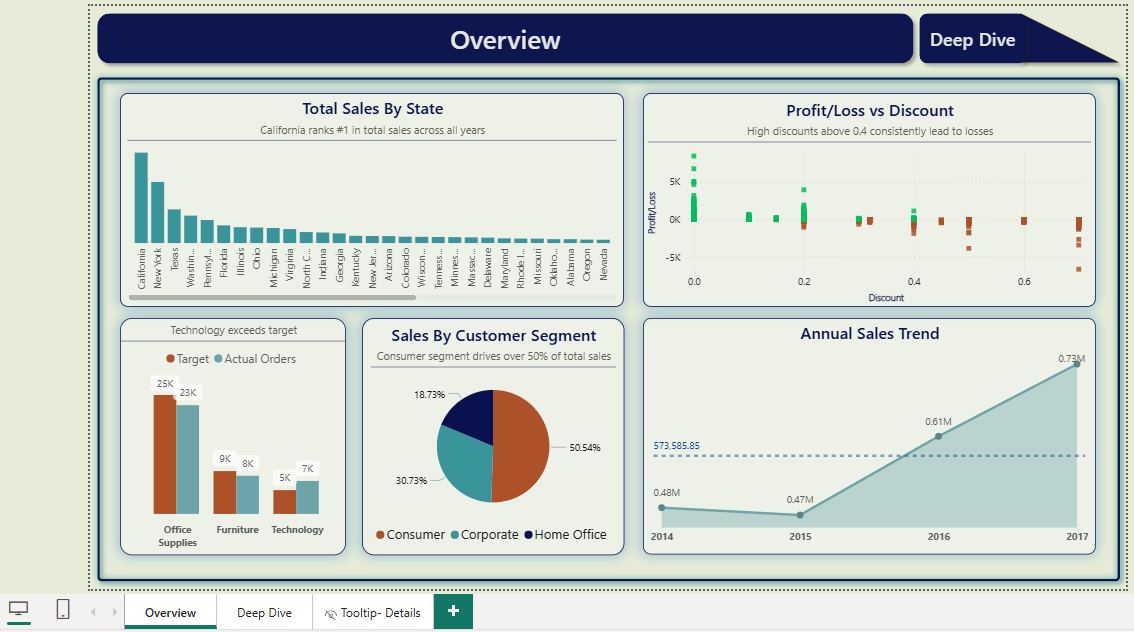

Layout of this report page (visuals, bound fields, positions):
{"tool":"powerbi","page":{"name":"Overview","canvas":[1280,720],"ordinal":0},"visuals":[{"type":"shape","box":[0,79.1,1280.6,640.3],"z":0},{"type":"lineChart","title":"Annual Sales Trend","fields":{"Category":["DATES.Myear"],"Y":["Sum(All sales.فروش دلاری)"]},"box":[682.7,385.4,558.8,291.8],"z":1000},{"type":"lineClusteredColumnComboChart","fields":{"Category":["Target.گروه کالا"],"Y":["Sum(Target.تارگت)","Sum(All sales.فروش تعدادی)"]},"box":[37.3,385.1,279.1,292.5],"z":2000},{"type":"clusteredColumnChart","title":"Total Sales By State","fields":{"Y":["Sum(All sales.فروش دلاری)"],"Category":["All sales.ایالت"]},"box":[37.2,107.4,622.1,264.3],"z":3000},{"type":"scatterChart","title":"Profit/Loss vs Discount","fields":{"X":["All sales.تحفیف"],"Y":["All sales.سود"]},"box":[682.7,107.4,558.8,264.3],"z":4000},{"type":"pieChart","title":"Sales By Customer Segment","fields":{"Category":["All sales.نوع مشتری"],"Y":["Sum(All sales.فروش دلاری)"]},"box":[335.8,385.1,323.9,292.5],"z":5000},{"type":"shape","box":[1140,0,140,78.8],"z":6000},{"type":"pageNavigator","box":[1015,0,150,80],"z":7000},{"type":"shape","box":[0,0,1025.7,80],"z":8000}]}

Visuals, with their boxes on the page's 1280x720 design canvas (x1, y1, x2, y2). These are canvas units, not pixel positions in the 1134x632 screenshot, which may show the page scaled, cropped or inside an application window:
shape: bbox(0, 79, 1281, 719)
"Annual Sales Trend" lineChart: bbox(683, 385, 1242, 677)
lineClusteredColumnComboChart - Target.گروه کالا x Sum(Target.تارگت): bbox(37, 385, 316, 678)
"Total Sales By State" clusteredColumnChart: bbox(37, 107, 659, 372)
"Profit/Loss vs Discount" scatterChart: bbox(683, 107, 1242, 372)
"Sales By Customer Segment" pieChart: bbox(336, 385, 660, 678)
shape: bbox(1140, 0, 1280, 79)
pageNavigator: bbox(1015, 0, 1165, 80)
shape: bbox(0, 0, 1026, 80)
